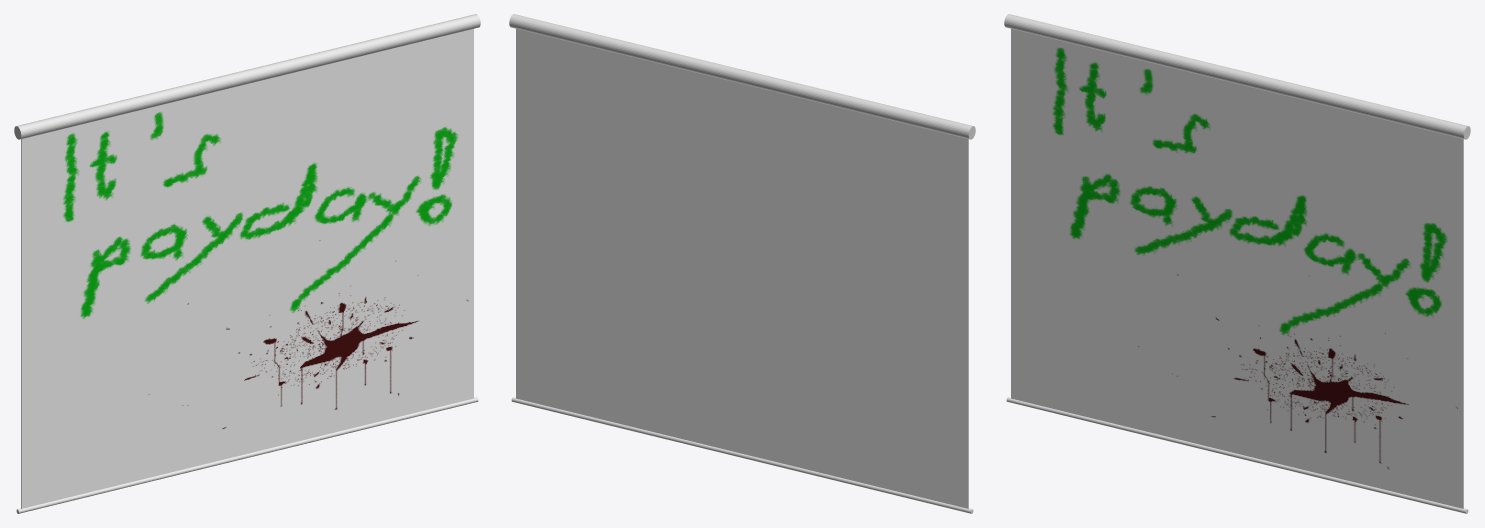
File: conference.fbx
The picture shows the model from 3 angles, left to right: view 1: azimuth 30°, elevation 25°; view 2: azimuth 150°, elevation 25°; view 3: azimuth 330°, elevation 25°; orthographic projection.
Parts seen in each view (by area): view 1: Cube.041, Cylinder.050, Cylinder.049; view 2: Cube.041, Cylinder.050, Cylinder.049; view 3: Cube.041, Cylinder.050, Cylinder.049.
Boxes of the visible parts, <box> form: Cube.041: <box>21,29,473,508</box>; Cylinder.050: <box>14,14,480,139</box>; Cylinder.049: <box>16,397,478,513</box>; Cube.041: <box>516,29,968,508</box>; Cylinder.050: <box>509,14,975,139</box>; Cylinder.049: <box>511,397,973,513</box>; Cube.041: <box>1011,29,1463,508</box>; Cylinder.050: <box>1004,14,1470,139</box>; Cylinder.049: <box>1006,397,1468,513</box>.
Size of the model in its own units: 1016 by 818 by 26.66.
